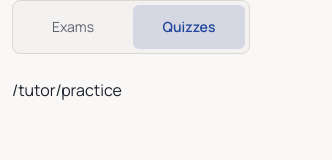
Scenario: shared Practice Library navigation › keeps existing direct routes and selects the correct view (tutor=true)
The image size is (332, 160).
Click the button "Exams". click: (73, 27)
box: x1=17 y1=5 x2=129 y2=49
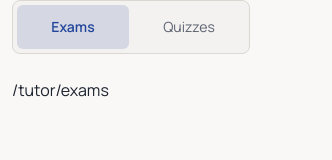
Now the text named "path" reads "/tutor/exams", box x1=12 y1=79 x2=109 y2=101
